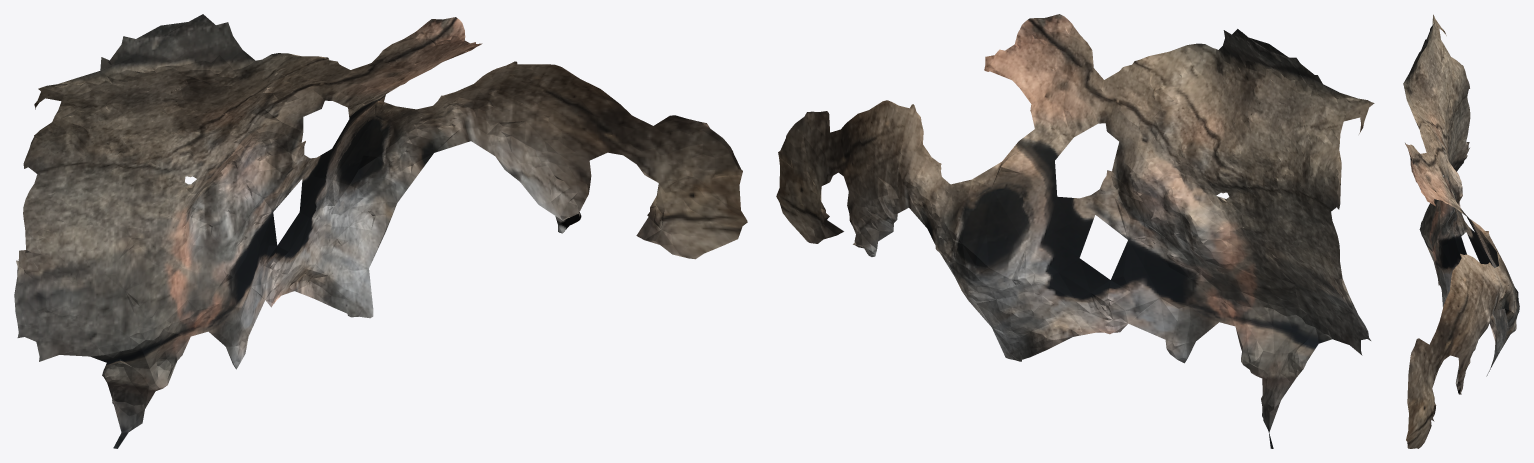
3 renders of one model, left to right at view 1: azimuth 30°, elevation 25°; view 2: azimuth 150°, elevation 25°; view 3: azimuth 270°, elevation 25°, orthographic. The views are drawn at different scales.
Visible parts, largest first — view 1: TexturedMesh; view 2: TexturedMesh; view 3: TexturedMesh.
Boxes of the visible parts, x1,y1,x2,y2 form: TexturedMesh: (14,14,747,448); TexturedMesh: (776,14,1374,448); TexturedMesh: (1403,14,1519,448).
Bounding box in the file's own units: 2.24 × 1.34 × 0.4747.
Materials: 1 (1 with a texture image).
